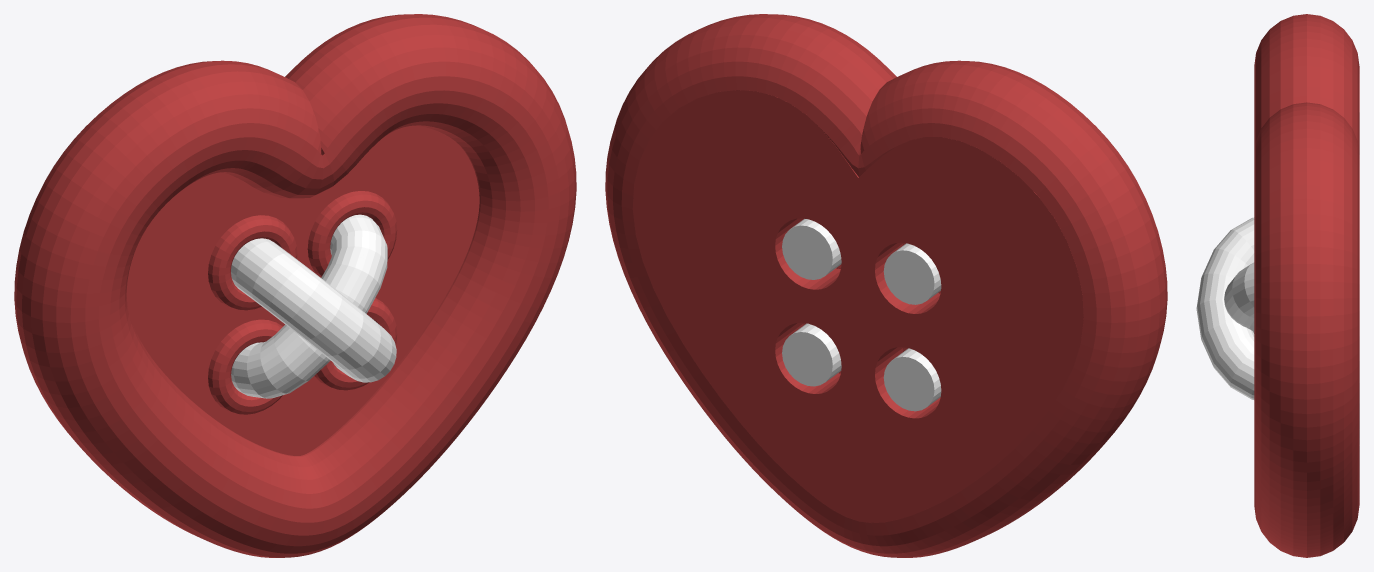
Rendered from Button_heart.glb.
The picture shows the model from 3 angles, left to right: view 1: azimuth 30°, elevation 25°; view 2: azimuth 150°, elevation 25°; view 3: azimuth 270°, elevation 25°; orthographic projection. The views are drawn at different scales.
Parts seen in each view (by area): view 1: Button_heart_body, Button_heart_thread; view 2: Button_heart_body, Button_heart_thread; view 3: Button_heart_body, Button_heart_thread.
Boxes of the visible parts, x1,y1,x2,y2 form: Button_heart_body: (14, 14, 576, 557); Button_heart_thread: (231, 214, 396, 398); Button_heart_body: (605, 14, 1167, 557); Button_heart_thread: (782, 219, 941, 411); Button_heart_body: (1254, 14, 1359, 557); Button_heart_thread: (1196, 217, 1254, 399).
Size of the model in its own units: 16.45 by 14.55 by 4.55.
